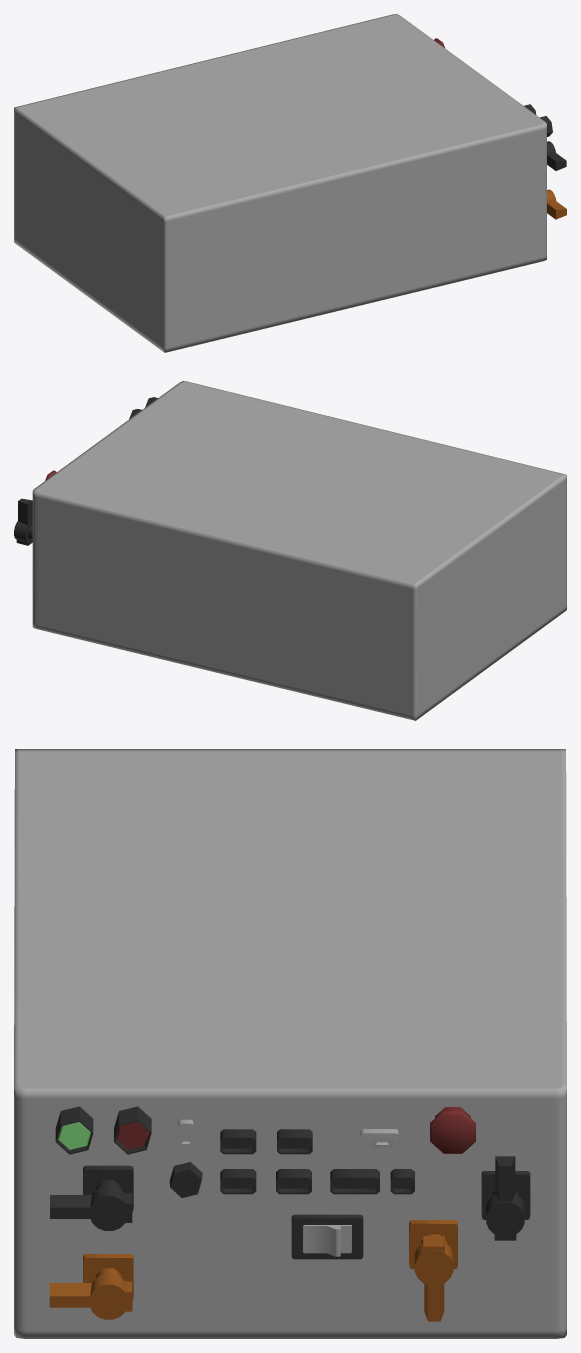
Rendered from HVB.glb.
3 views of the same model, one above another, from view 1: azimuth 30°, elevation 25°; view 2: azimuth 150°, elevation 25°; view 3: azimuth 270°, elevation 25° (orthographic). The views are drawn at different scales.
Visible parts, largest first — view 1: HVB; view 2: HVB; view 3: HVB.
Boxes of the visible parts, x1,y1,x2,y2 form: HVB: [14, 14, 566, 352]; HVB: [14, 381, 566, 720]; HVB: [14, 749, 566, 1338].
Size of the model in its own units: 0.8973 by 0.2828 by 0.5705.
